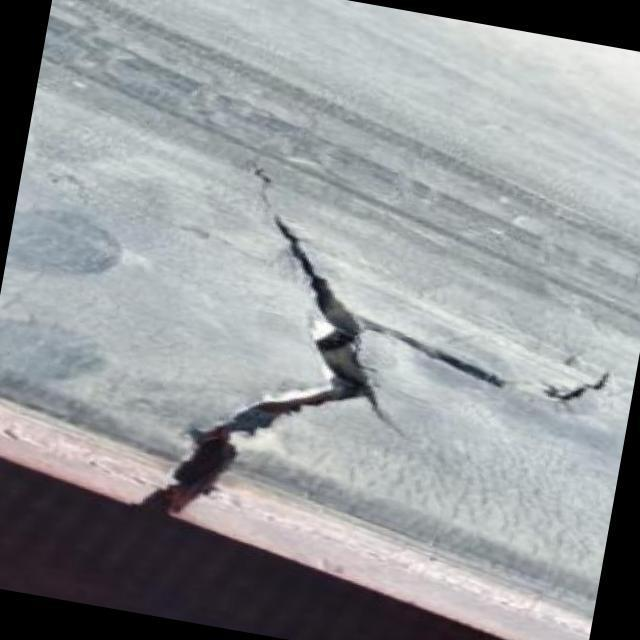Tear: (124, 170, 507, 520), (540, 366, 622, 411)
